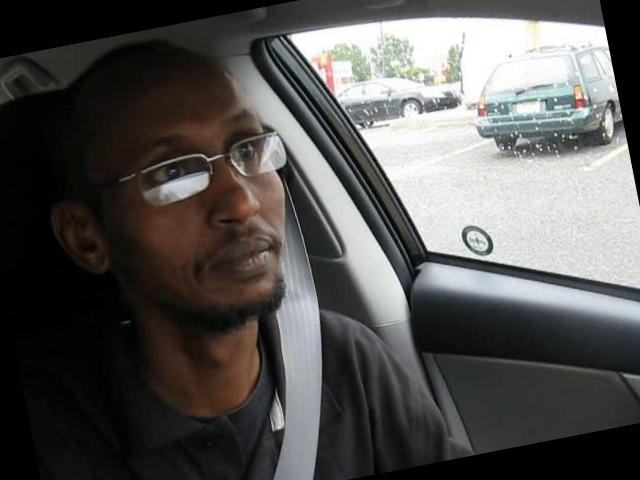eye_open: (128, 144, 214, 200), (226, 132, 270, 172)
face: (111, 94, 311, 330)
